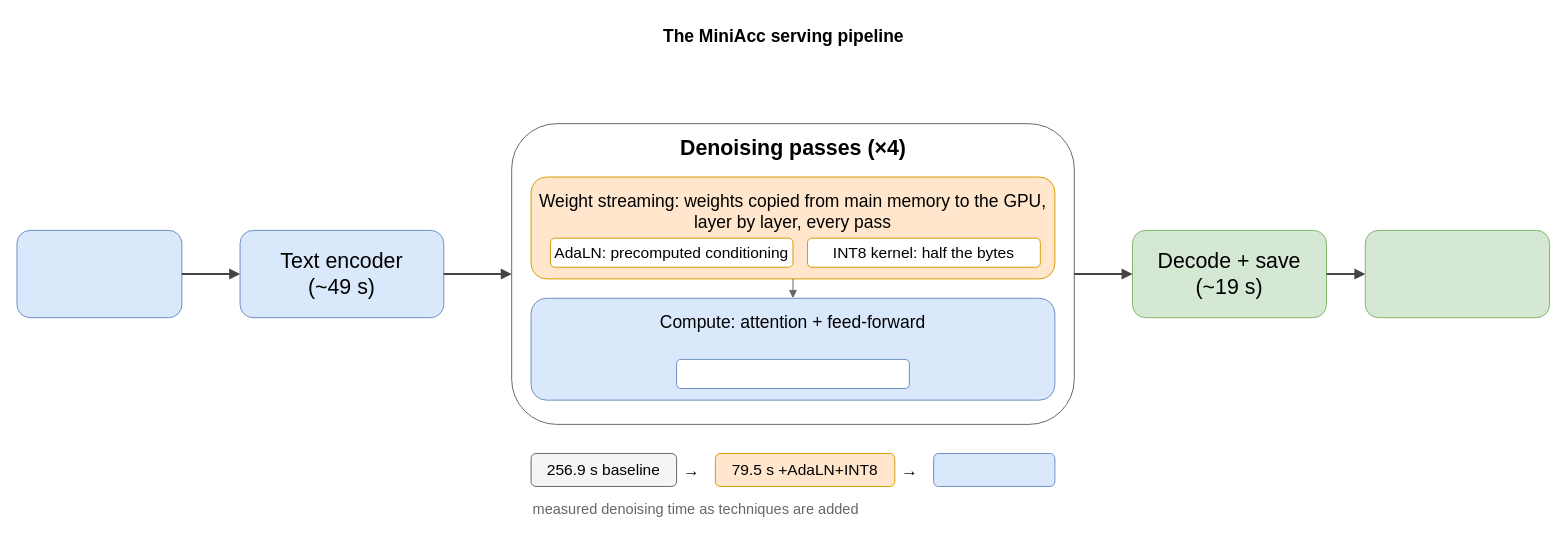
Some shapes in this 1567 by 534 pixel diagram are drawn without their labels. The centre of each missing label's shape, as x and y in pixels:
60.6 s +Sage: the point at 994,469
Prompt: the point at 99,273
Sage: 8-bit attention scores: the point at 792,373
Video file (5.2 s, with audio): the point at 1457,273
